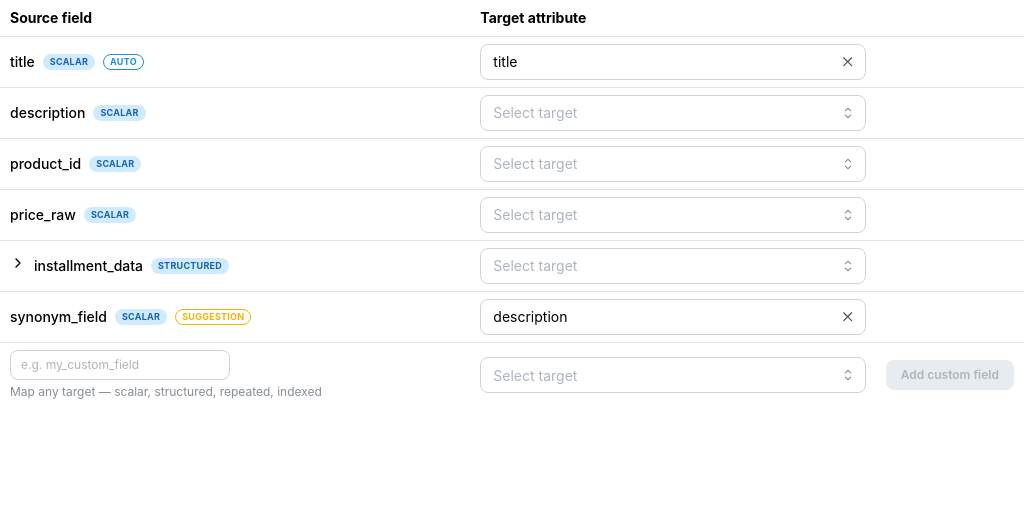
Scenario: MappingTable › sub-row shows origin badge from dotted-key mapping
Expected: the text "installment_data" is shown, [34,256,143,276]
Click the button named "Show sub-fields of installment_data".
click(18, 266)  # box [10,253,26,278]
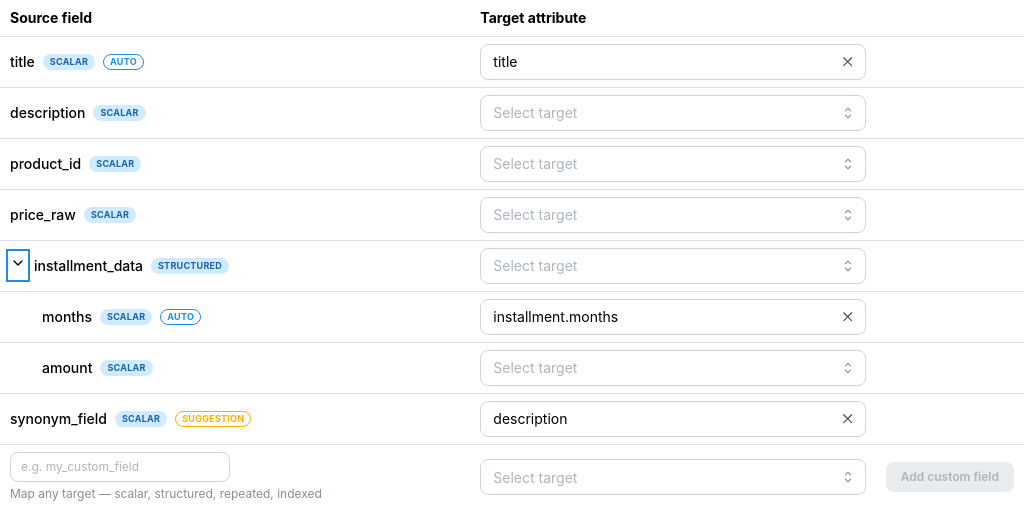
Result: the text "months" shows "auto" at [167,311,194,322]
